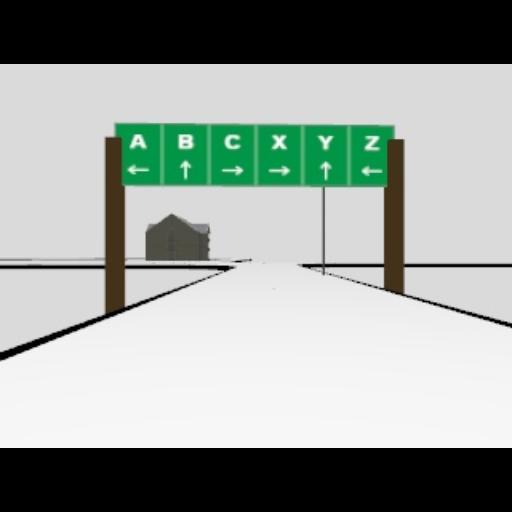A: (128, 133, 146, 149)
B: (178, 133, 194, 149)
C: (224, 133, 240, 149)
Left: (358, 164, 382, 176), (127, 164, 149, 174)
Right: (267, 164, 291, 176), (221, 165, 245, 175)
Straight: (318, 160, 332, 180), (180, 158, 190, 180)
X: (270, 133, 286, 149)
Y: (317, 134, 333, 150)
Z: (363, 134, 381, 150)
